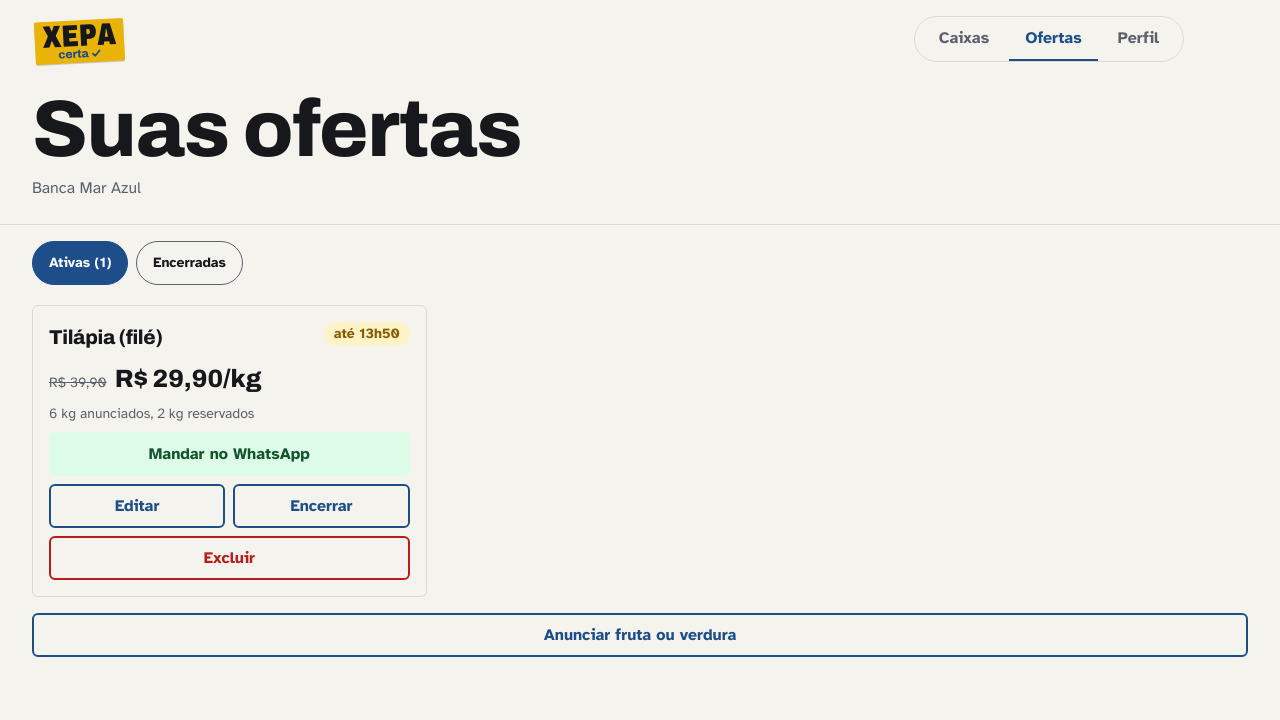
Suas ofertas › encerrar avisa que a oferta foi encerrada
Click the button "Encerrar". click: click(321, 506)
box: [233,484,410,528]
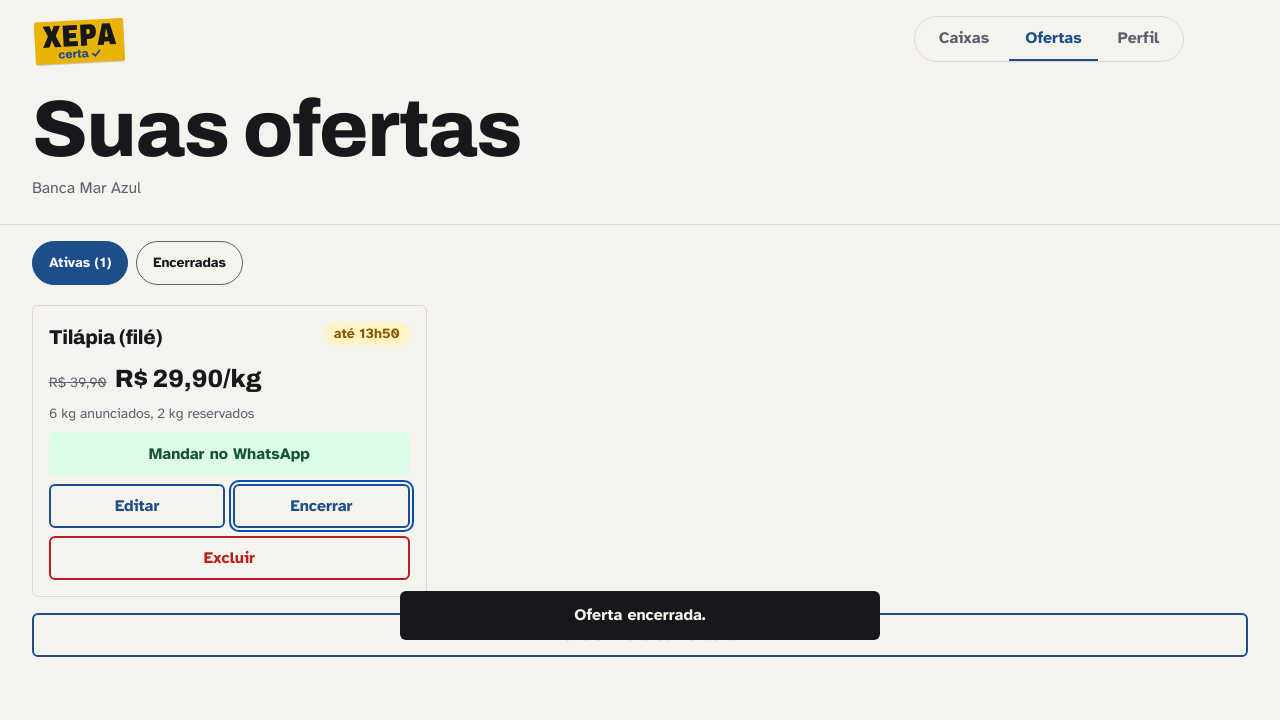
Expected: the text "Oferta encerrada." is shown, [400,591,880,640]
